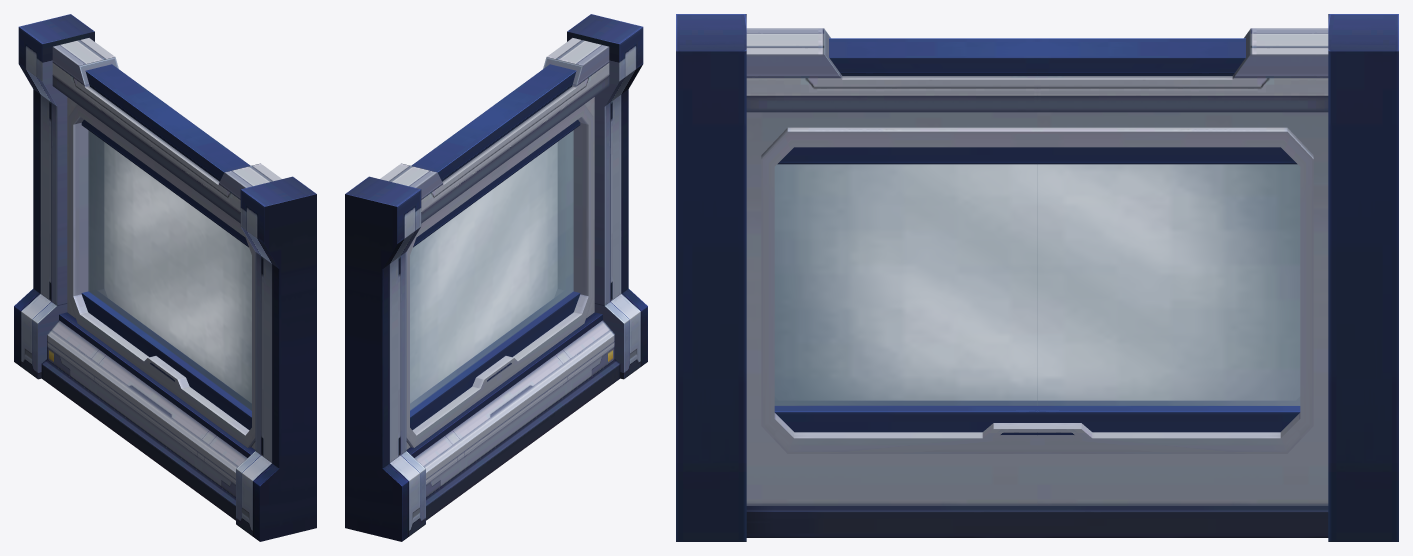
File: my_carrier_01_partition_01.glb
3 views of the same model, side by side, from view 1: azimuth 30°, elevation 25°; view 2: azimuth 150°, elevation 25°; view 3: azimuth 270°, elevation 25° (orthographic). The views are drawn at different scales.
Visible parts, largest first — view 1: my_carrier_01_partition_01; view 2: my_carrier_01_partition_01; view 3: my_carrier_01_partition_01.
Boxes of the visible parts, bbox=[...] form: my_carrier_01_partition_01: bbox=[14, 14, 316, 541]; my_carrier_01_partition_01: bbox=[345, 14, 647, 541]; my_carrier_01_partition_01: bbox=[676, 14, 1398, 541].
Bounding box in the file's own units: 0.0032 × 0.018 × 0.024.
Materials: 2 (2 with a texture image).
